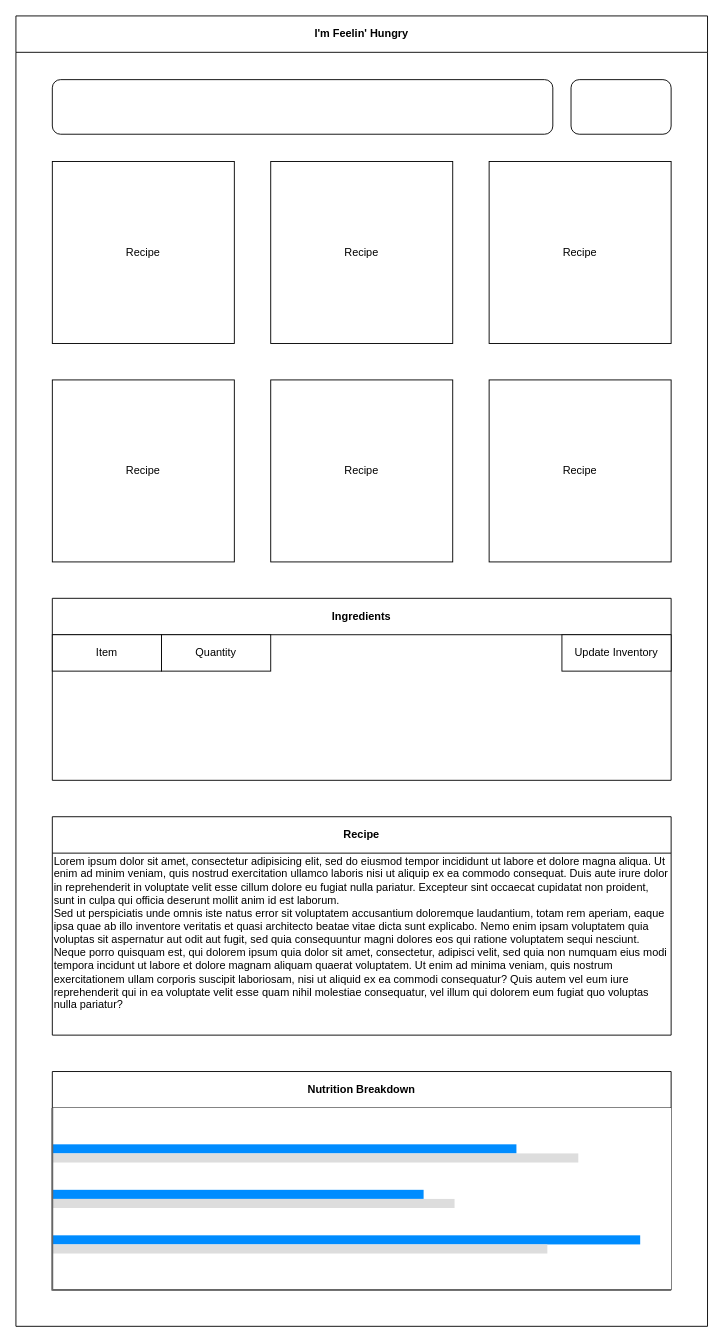
This 723x1342 diagram has some shape labels left out. The shapes that lost their labels are listed below. From the top down, each one's centre as x and y in pixels, then its label:
the point at 302,106: What would you like to eat?
the point at 620,106: # Servings
